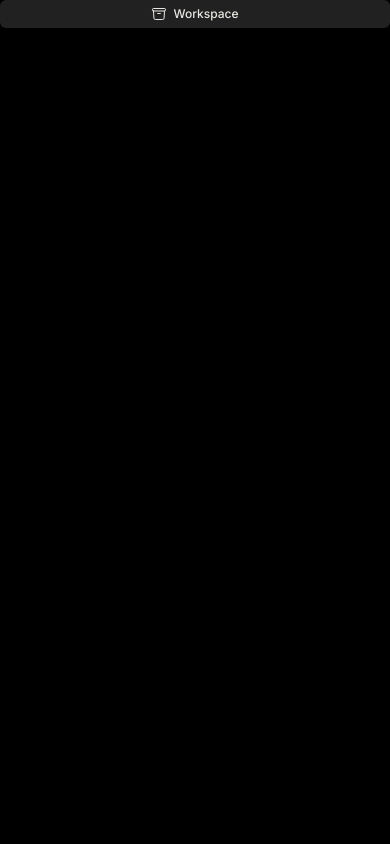
it: bulk workspace assignment › uses one drawer to move all selected items to the chosen workspace
The image size is (390, 844).
Later steps or results of the test are not shown.
Click the button "Workspace". click: (195, 14)
box: [0, 0, 389, 28]
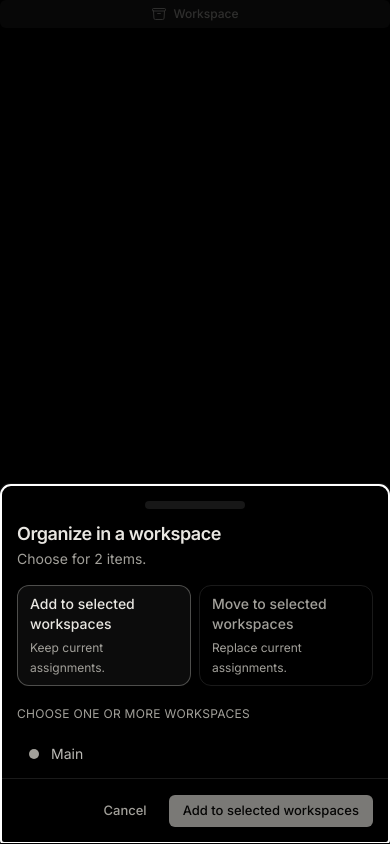
Expected: the dialog shows "Choose for 2 items.", [17, 550, 146, 567]
